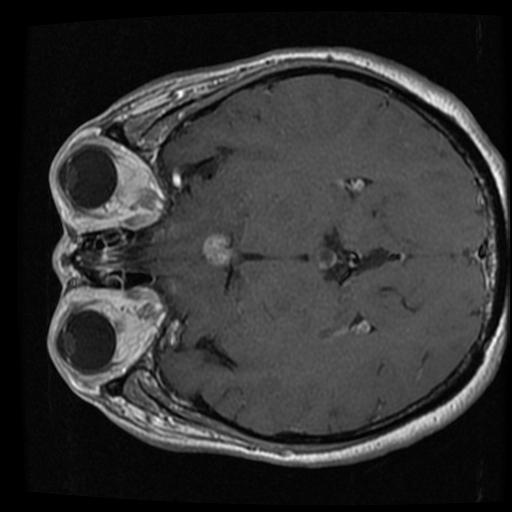pituitary tumour: (201, 234, 235, 268)
